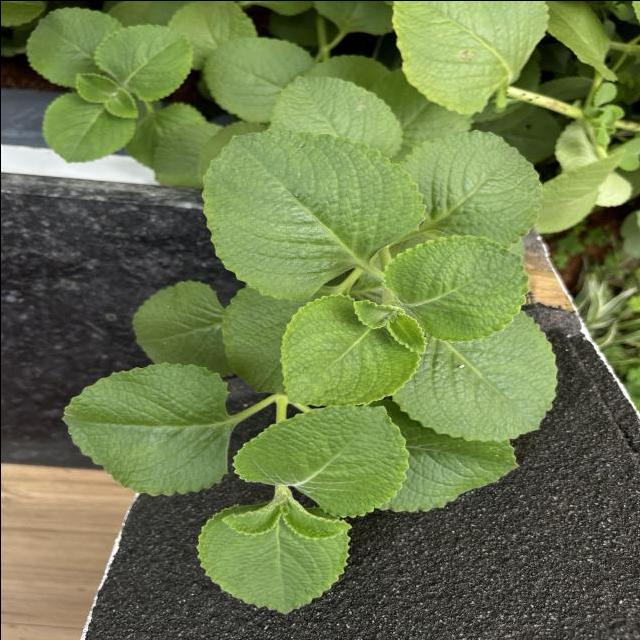Plectranthus barbatus: (198, 128, 427, 302), (60, 360, 228, 498), (391, 309, 558, 442), (230, 402, 410, 518), (388, 0, 550, 116), (196, 503, 350, 618), (400, 128, 544, 249), (379, 233, 530, 343), (278, 292, 420, 408), (267, 74, 403, 158), (130, 278, 232, 378), (201, 36, 315, 124), (23, 6, 125, 88), (90, 22, 192, 102), (40, 92, 136, 164), (74, 70, 116, 102)
